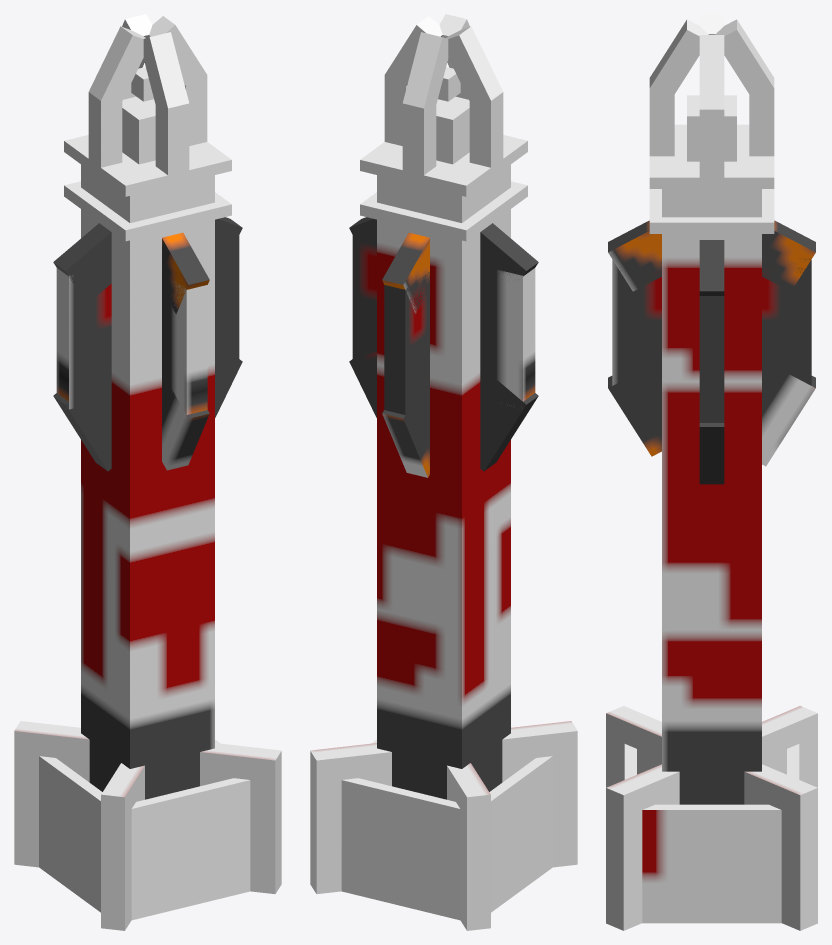
File: missile_regen.obj
The picture shows the model from 3 angles, left to right: view 1: azimuth 30°, elevation 25°; view 2: azimuth 150°, elevation 25°; view 3: azimuth 270°, elevation 25°; orthographic projection.
Parts seen in each view (by area): view 1: MAIN_MODULE, WING_B1, WING_BA1, WING_TBD2, WING_B4, WING_TAC2, WING_BB1, T_SUPPORT_2, T_SUPPORT_1, WING_TB3, WARHEAD_SUPPORT_C2, WING_TA1 (+10 smaller); view 2: MAIN_MODULE, WING_B2, WING_BB1, WING_TBD2, WING_B4, WING_TAC2, WING_BA1, T_SUPPORT_2, T_SUPPORT_1, WING_TB1, WARHEAD_SUPPORT_C2, WARHEAD_SUPPORT_D2 (+9 smaller); view 3: MAIN_MODULE, WING_B3, WING_BA1, WING_BB1, WING_TAC2, T_SUPPORT_2, WING_TBD2, WING_TC1, WING_TA1, T_SUPPORT_1, WING_TA3, WING_TC3 (+10 smaller).
Part boxes in pixels (x1=…): MAIN_MODULE: x1=81, y1=164, x2=214, y2=799; WING_B1: x1=131, y1=778, x2=250, y2=920; WING_BA1: x1=14, y1=721, x2=281, y2=893; WING_TBD2: x1=56, y1=235, x2=239, y2=409; WING_B4: x1=39, y1=756, x2=102, y2=912; WING_TAC2: x1=162, y1=272, x2=207, y2=414; WING_BB1: x1=101, y1=763, x2=144, y2=930; T_SUPPORT_2: x1=64, y1=135, x2=231, y2=196; T_SUPPORT_1: x1=64, y1=181, x2=231, y2=241; WING_TB3: x1=53, y1=223, x2=111, y2=303; WARHEAD_SUPPORT_C2: x1=89, y1=26, x2=145, y2=106; WING_TA1: x1=162, y1=373, x2=209, y2=470; MAIN_MODULE: x1=377, y1=164, x2=510, y2=799; WING_B2: x1=341, y1=778, x2=460, y2=920; WING_BB1: x1=310, y1=721, x2=577, y2=893; WING_TBD2: x1=352, y1=234, x2=535, y2=406; WING_B4: x1=489, y1=756, x2=552, y2=912; WING_TAC2: x1=384, y1=272, x2=429, y2=422; WING_BA1: x1=447, y1=763, x2=490, y2=930; T_SUPPORT_2: x1=360, y1=135, x2=527, y2=196; T_SUPPORT_1: x1=360, y1=181, x2=527, y2=241; WING_TB1: x1=480, y1=366, x2=538, y2=471; WARHEAD_SUPPORT_C2: x1=446, y1=26, x2=502, y2=106; WARHEAD_SUPPORT_D2: x1=403, y1=32, x2=448, y2=108; MAIN_MODULE: x1=662, y1=189, x2=761, y2=804; WING_B3: x1=642, y1=804, x2=781, y2=923; WING_BA1: x1=606, y1=706, x2=817, y2=930; WING_BB1: x1=606, y1=706, x2=817, y2=930; WING_TAC2: x1=612, y1=258, x2=811, y2=385; T_SUPPORT_2: x1=649, y1=124, x2=774, y2=188; WING_TBD2: x1=699, y1=296, x2=724, y2=422; WING_TC1: x1=762, y1=360, x2=815, y2=466; WING_TA1: x1=608, y1=360, x2=661, y2=456; T_SUPPORT_1: x1=649, y1=189, x2=774, y2=233; WING_TA3: x1=608, y1=220, x2=661, y2=291; WING_TC3: x1=762, y1=220, x2=815, y2=291.
Bounding box in the file's own units: 1.06 × 4.76 × 1.06.
